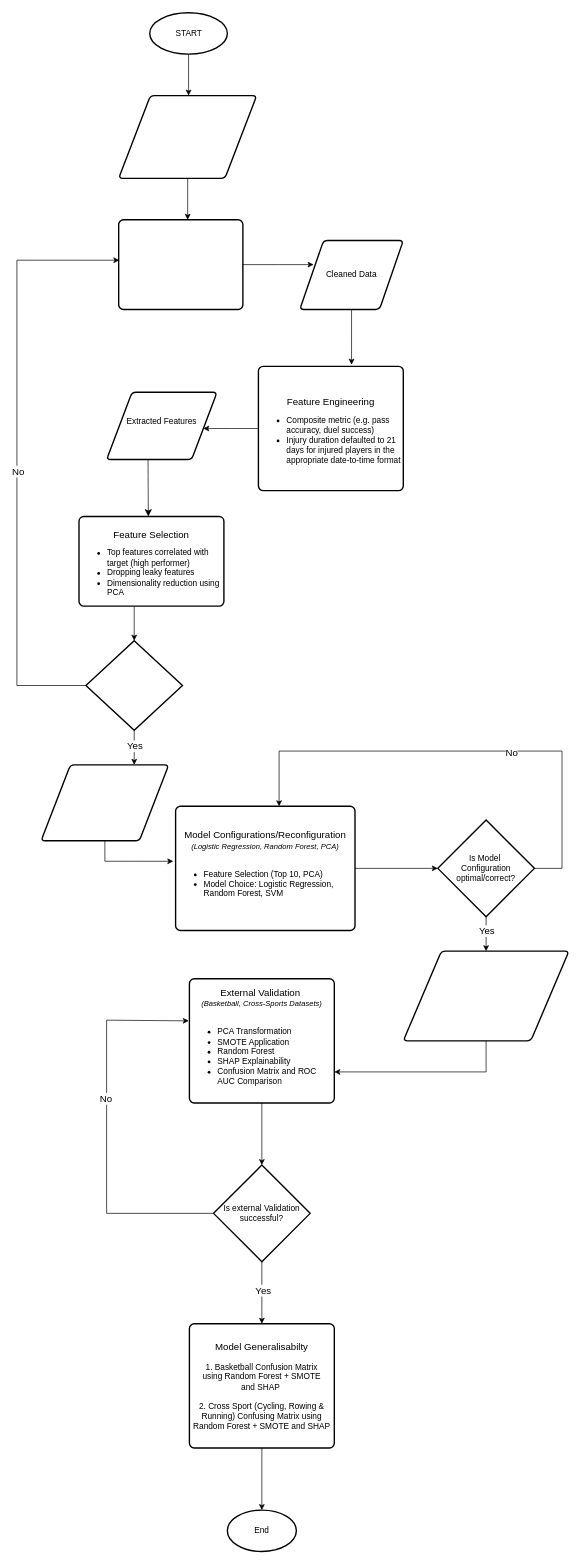
This 582x1564 diagram has some shape labels left out. Here are the shapes that lost their labels. From the top down, the box of each, then its label:
(118, 95, 257, 179): Datasets (Football Player stats and Injury related data)
(118, 219, 243, 310): Data Preparation Cleaning, filtering, and merging Handling missing values
(85, 640, 183, 731): Are features Valid for Modelling?
(40, 764, 169, 841): PCA Transformed Data Model Configuration Features
(402, 950, 569, 1041): Developed Models (Logisitc Regression, Random Forests, and SVM
